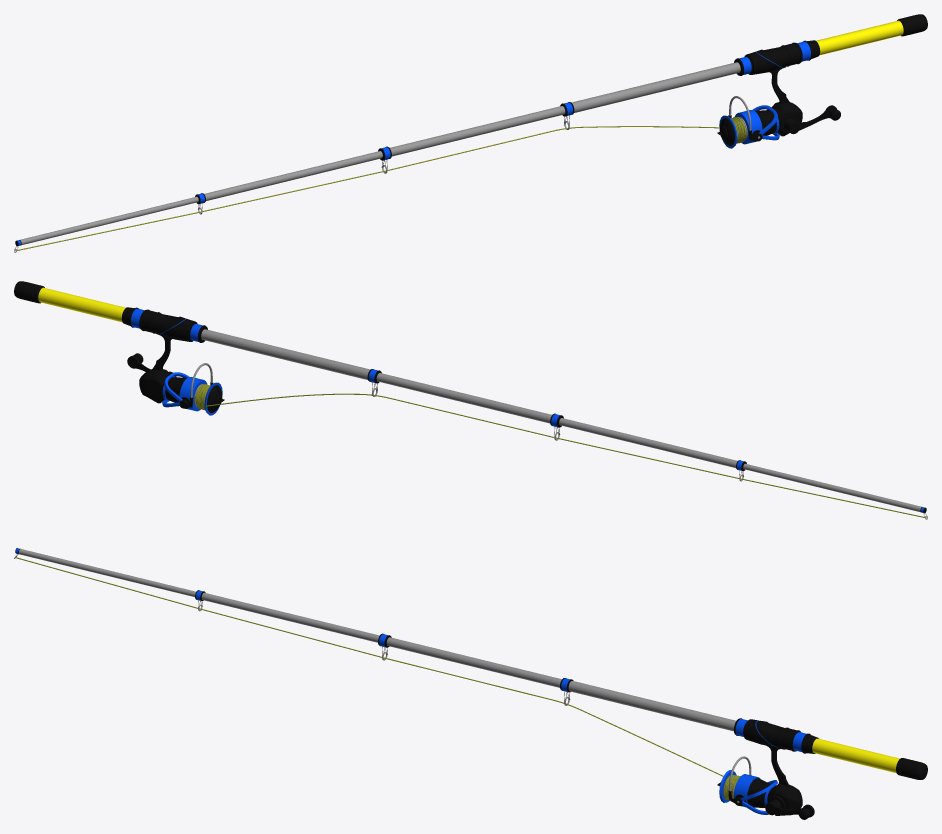
Rendered from rod07.FBX.
The picture shows the model from 3 angles, top to bottom: view 1: azimuth 30°, elevation 25°; view 2: azimuth 150°, elevation 25°; view 3: azimuth 330°, elevation 25°; orthographic projection.
Parts seen in each view (by area): view 1: Rod01, Rod02, Thread, rod03; view 2: Rod01, Rod02, Thread; view 3: Rod01, Thread, Rod02, rod03.
Part boxes in pixels (x1,y1,x2,y2): Rod01: (14, 14, 927, 252); Rod02: (717, 96, 779, 148); Thread: (15, 117, 746, 251); rod03: (780, 105, 840, 134); Rod01: (14, 281, 927, 519); Rod02: (162, 363, 224, 415); Thread: (194, 384, 926, 518); Rod01: (14, 548, 927, 815); Thread: (15, 557, 740, 800); Rod02: (717, 756, 777, 814); rod03: (765, 795, 814, 819).
Size of the model in its own units: 768 by 71.12 by 41.64.
